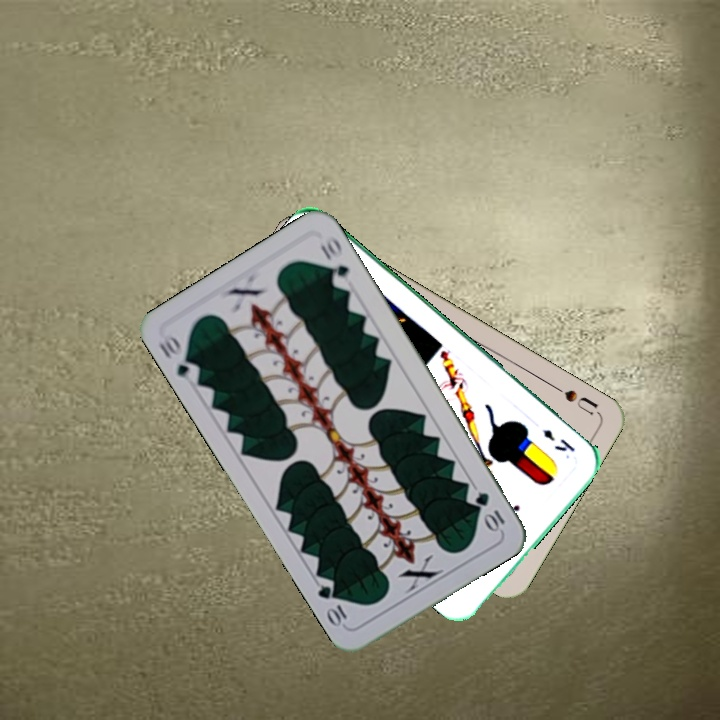EK: (539, 425, 578, 455)
G10: (155, 330, 203, 386), (471, 488, 508, 535)
SU: (548, 381, 602, 418)
